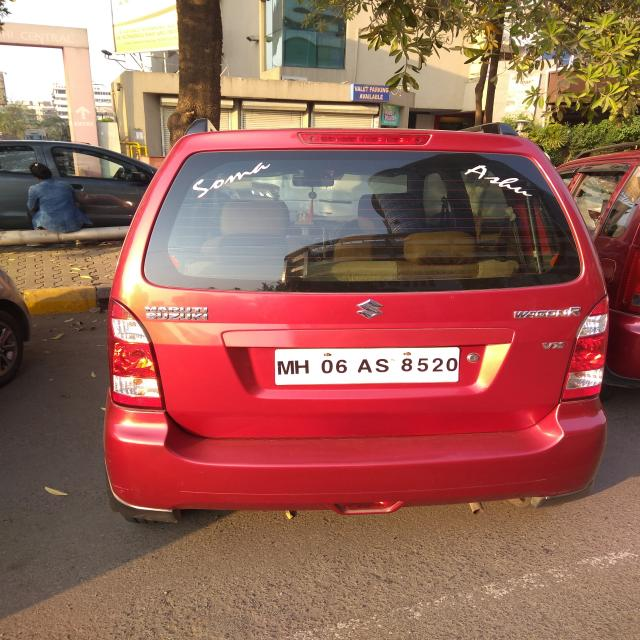Number-Plate: (274, 349, 462, 384)
